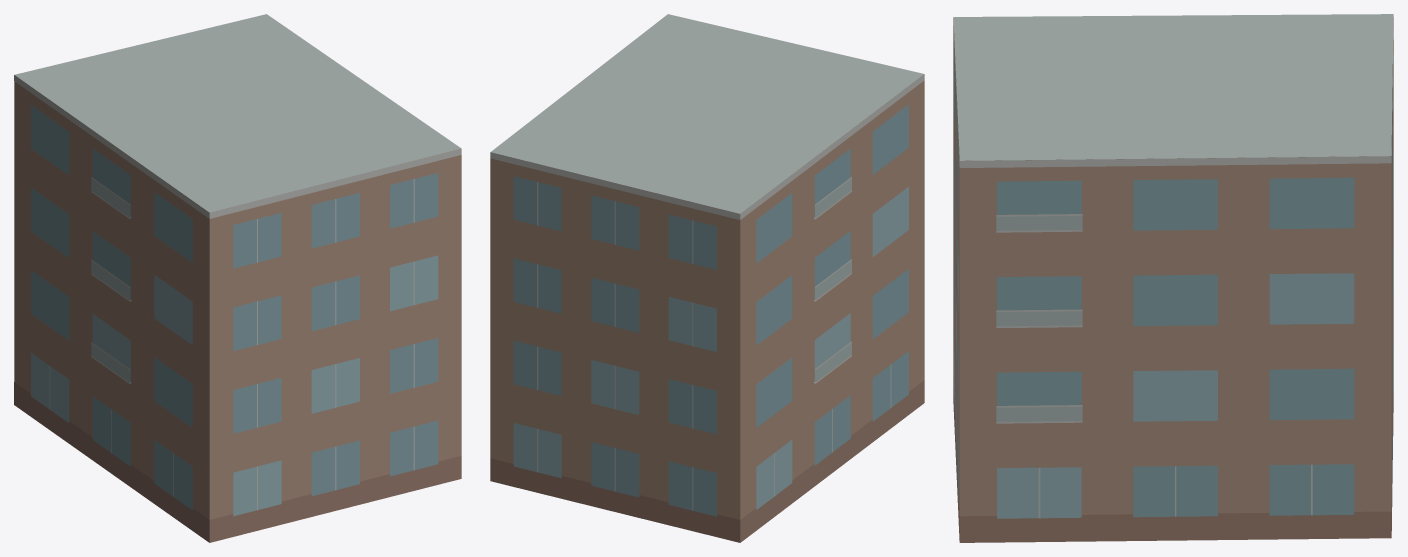
Rendered from survey-upis-32652925.glb.
3 views of the same model, side by side, from view 1: azimuth 30°, elevation 25°; view 2: azimuth 150°, elevation 25°; view 3: azimuth 270°, elevation 25° (orthographic). The views are drawn at different scales.
Parts seen in each view (by area): view 1: survey-upis-32652925.tmp; view 2: survey-upis-32652925.tmp; view 3: survey-upis-32652925.tmp.
Part boxes in pixels (x1,y1,x2,y2): survey-upis-32652925.tmp: (14,14,461,542); survey-upis-32652925.tmp: (490,14,924,542); survey-upis-32652925.tmp: (953,14,1393,542).
Size of the model in its own units: 10.61 by 12.85 by 13.43.
